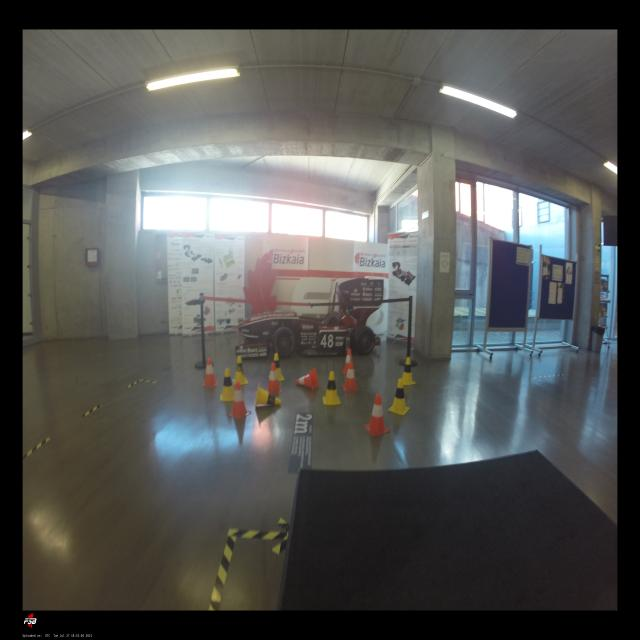orange_cone: (364, 394, 390, 436), (227, 381, 251, 420), (266, 362, 284, 395), (296, 368, 318, 390), (342, 362, 358, 392), (203, 358, 217, 387), (342, 349, 356, 375)
yellow_cone: (388, 379, 410, 415), (255, 384, 281, 409), (322, 371, 340, 406), (398, 357, 416, 385), (232, 356, 248, 386), (220, 368, 234, 402), (273, 354, 284, 381)
